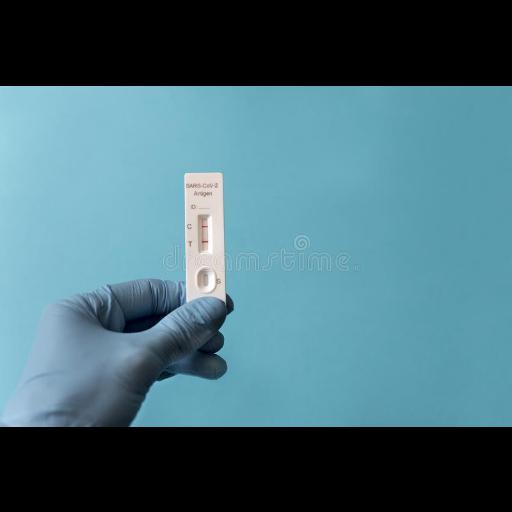Pos: (184, 171, 226, 305)
